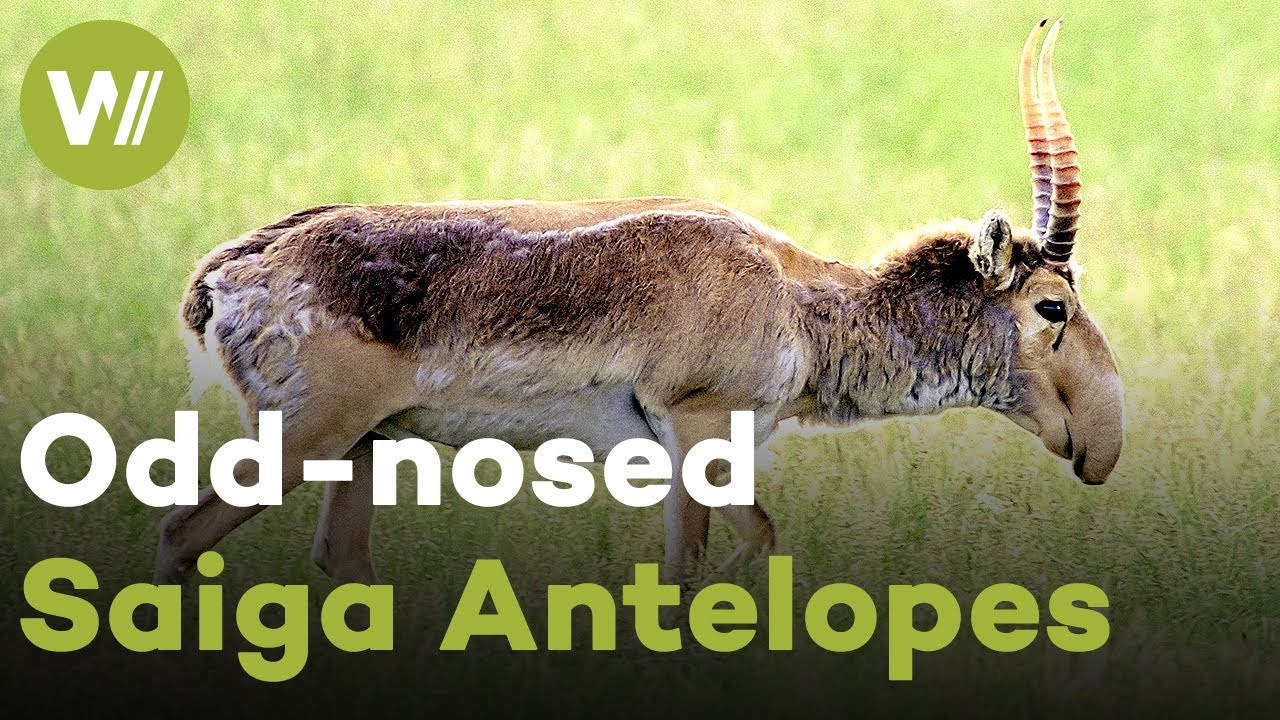saiga: (160, 14, 1141, 524)
